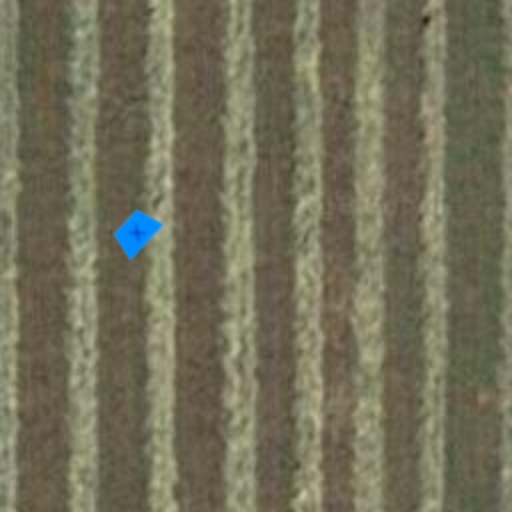trapezoid: (100, 196, 172, 268)
